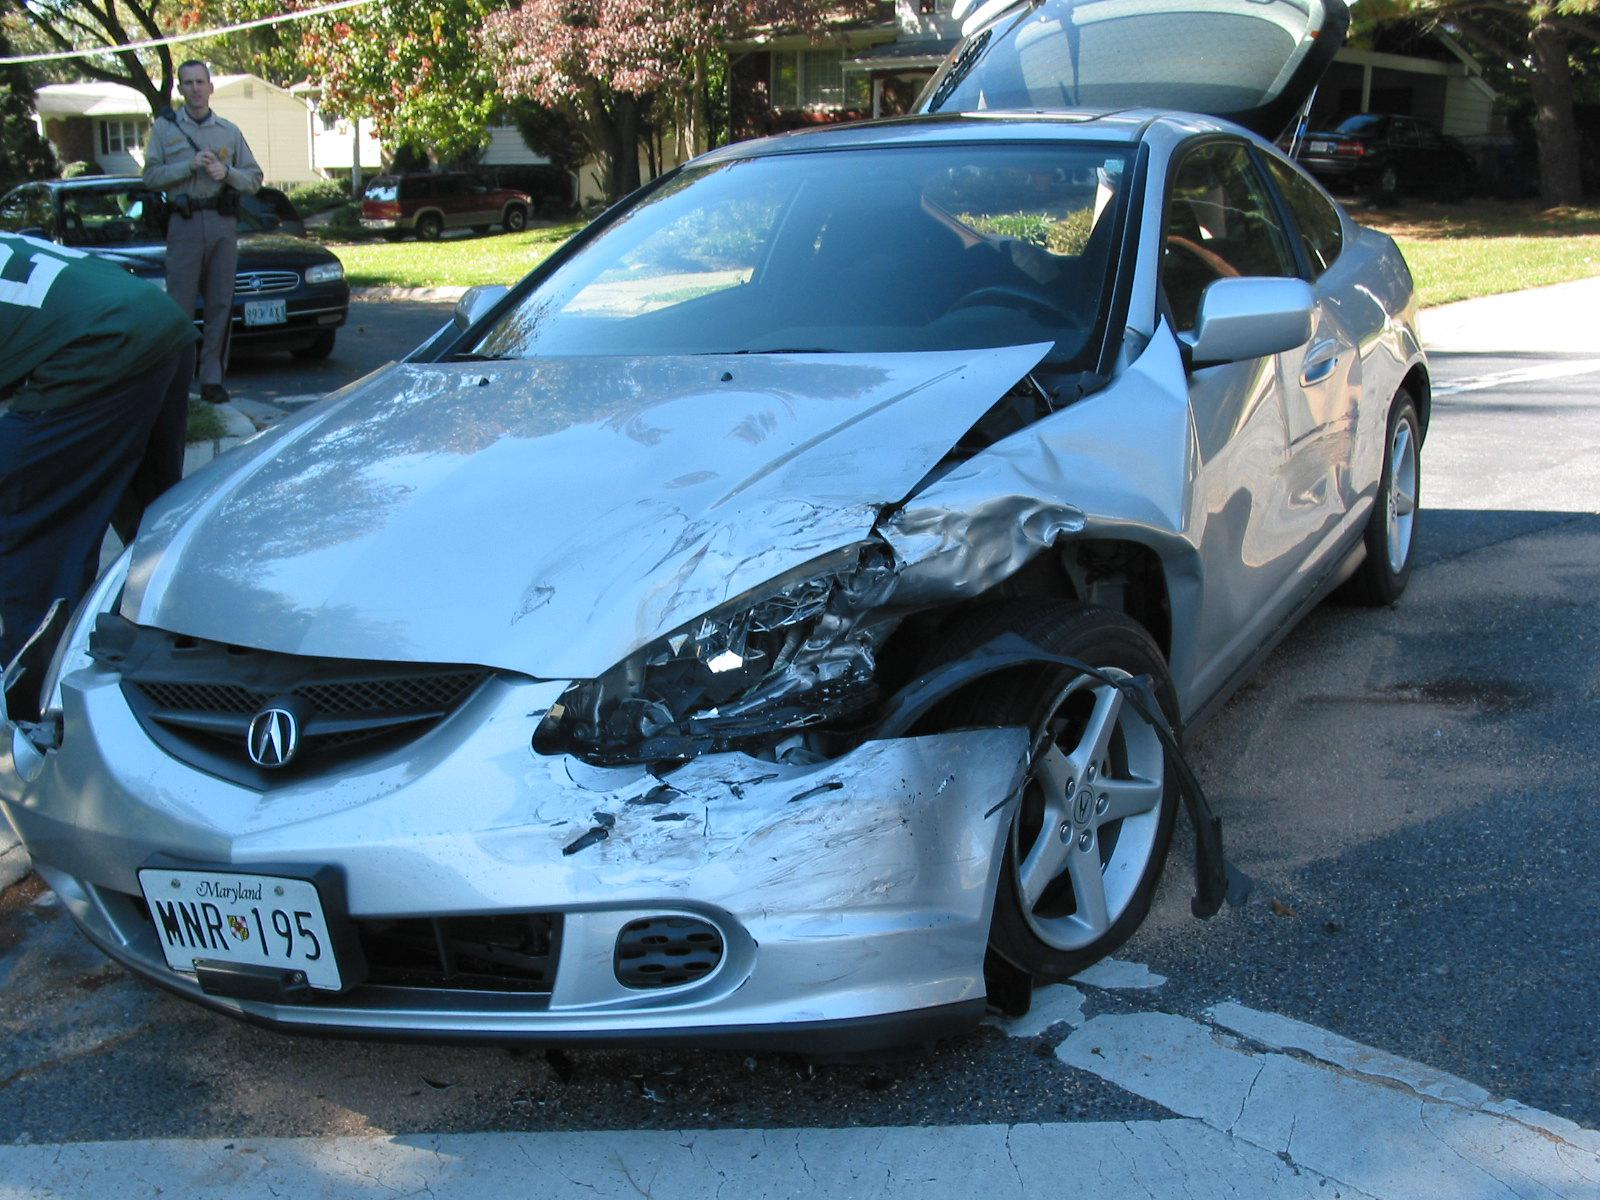Headlight-Damage: (568, 574, 964, 813)
front-bumper-dent: (461, 817, 1015, 1000)
